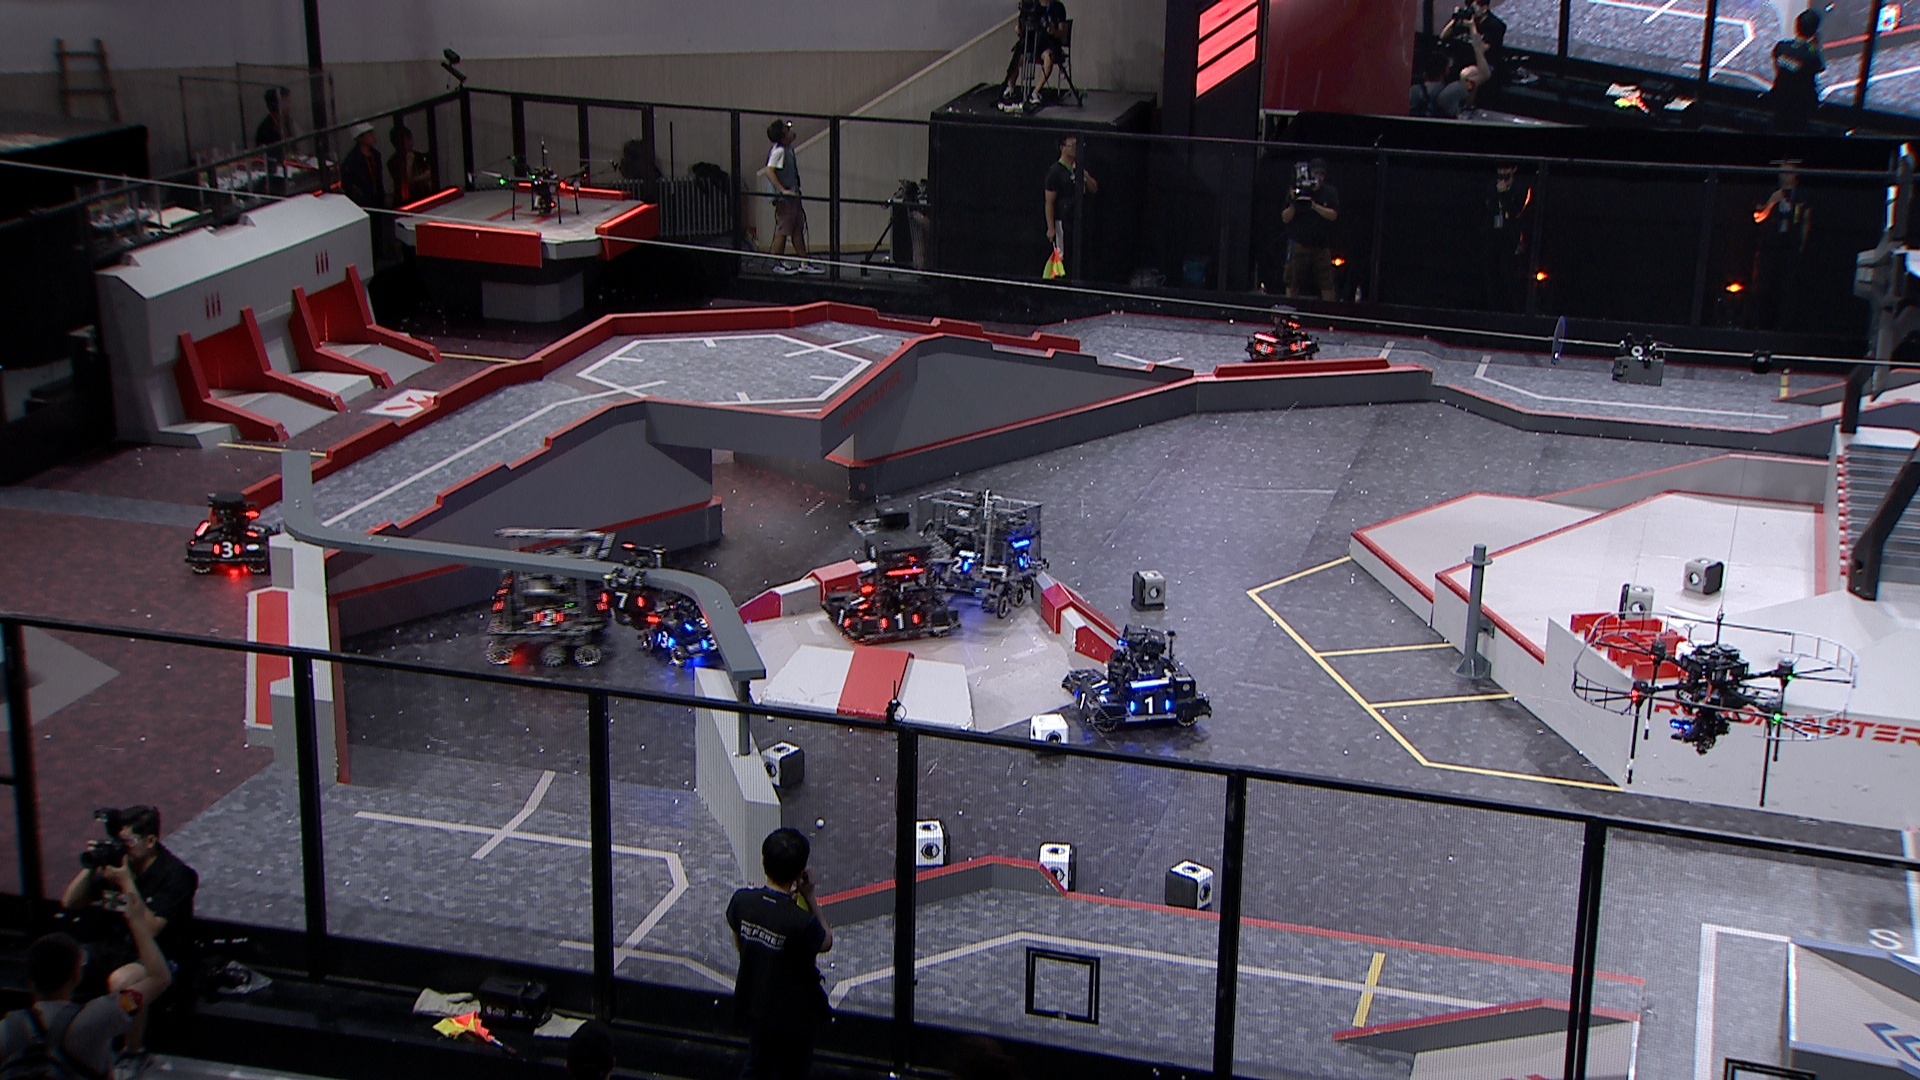armor: (597, 589, 645, 607), (880, 612, 918, 632), (1130, 695, 1168, 713), (211, 541, 243, 556), (1087, 673, 1112, 692), (1073, 688, 1092, 713), (533, 608, 560, 624), (651, 632, 676, 647), (833, 605, 852, 626), (243, 518, 264, 537), (948, 555, 967, 575), (843, 595, 866, 609), (688, 618, 713, 632), (1253, 338, 1273, 353), (1017, 553, 1038, 567), (1290, 339, 1309, 352), (698, 636, 719, 647), (1291, 327, 1309, 338)
car: (823, 504, 963, 645), (484, 520, 613, 666), (909, 481, 1044, 618), (1058, 622, 1209, 737), (181, 489, 277, 578), (638, 583, 737, 665), (1244, 305, 1319, 367)
watcher: (593, 545, 671, 638)
